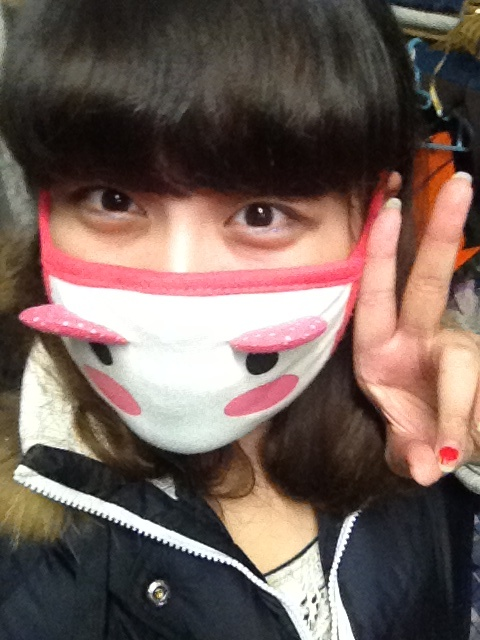face_mask: (43, 45, 351, 451)
